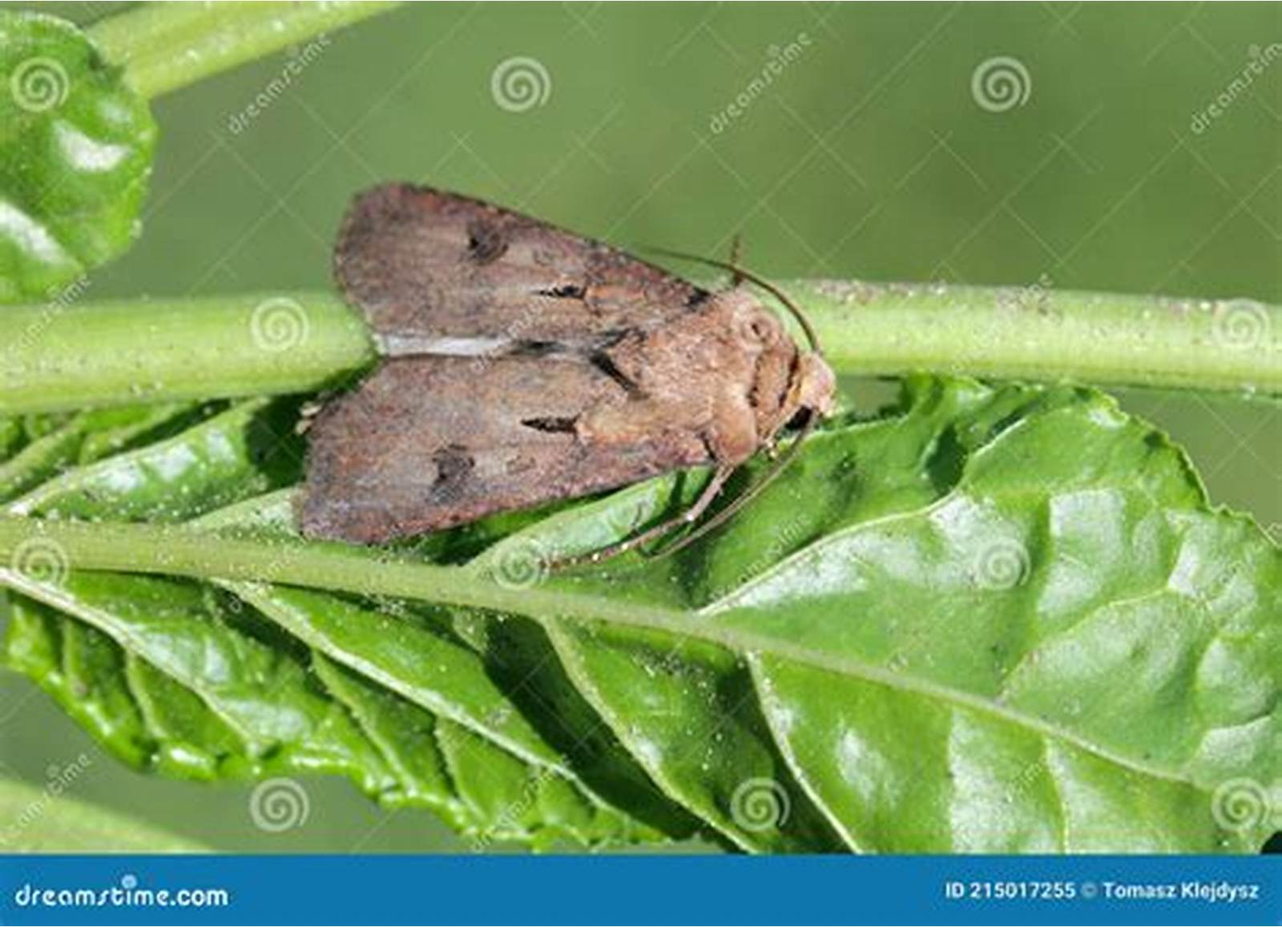Noctuidae: (292, 179, 845, 554)
